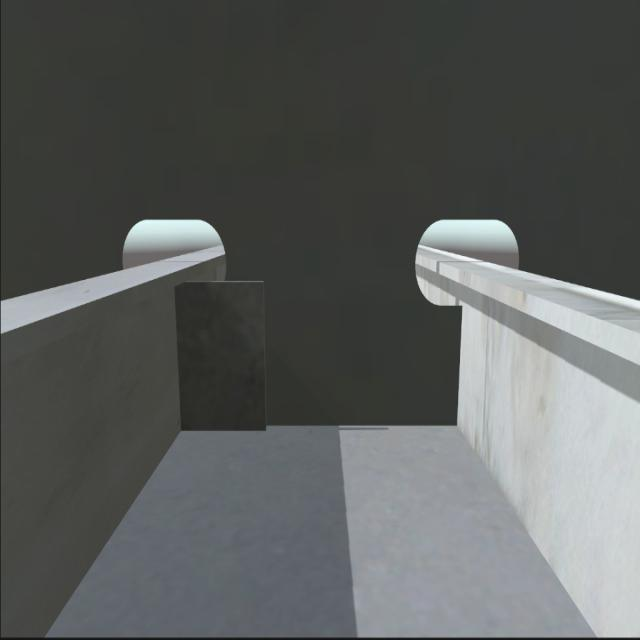fillet_yong_jeop_jang: (179, 414, 461, 432)
longi_yong_jeop_jang: (166, 279, 191, 433), (455, 300, 466, 430)
plate_CP03: (174, 279, 272, 432)
